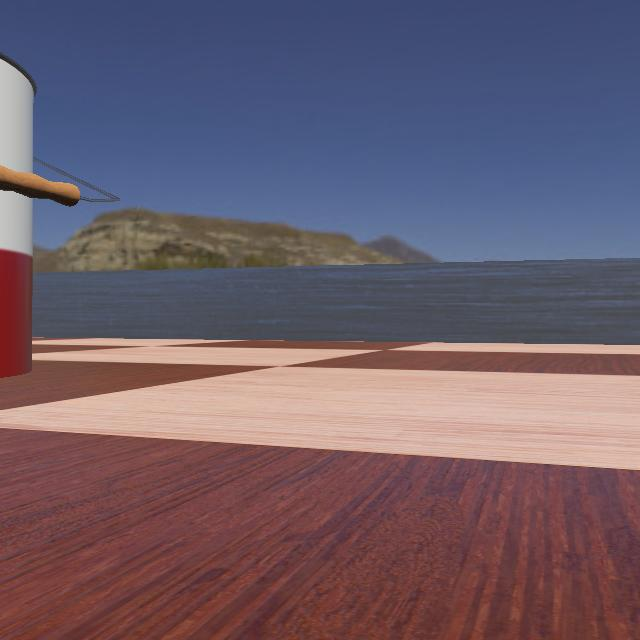paint-bucket: (0, 0, 138, 398)
